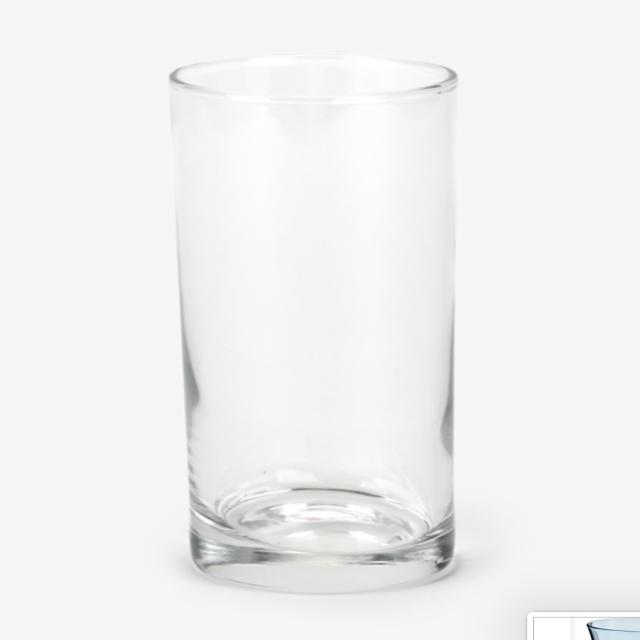recyclable: (141, 28, 490, 600)
